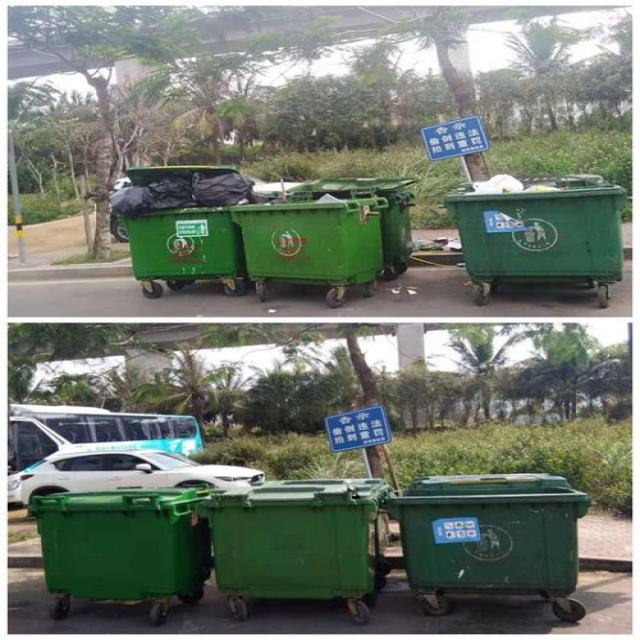garbage_bin: (387, 473, 590, 589), (200, 477, 389, 597), (23, 486, 207, 600), (227, 191, 384, 281)
overflow: (443, 172, 623, 280), (105, 163, 251, 276)
